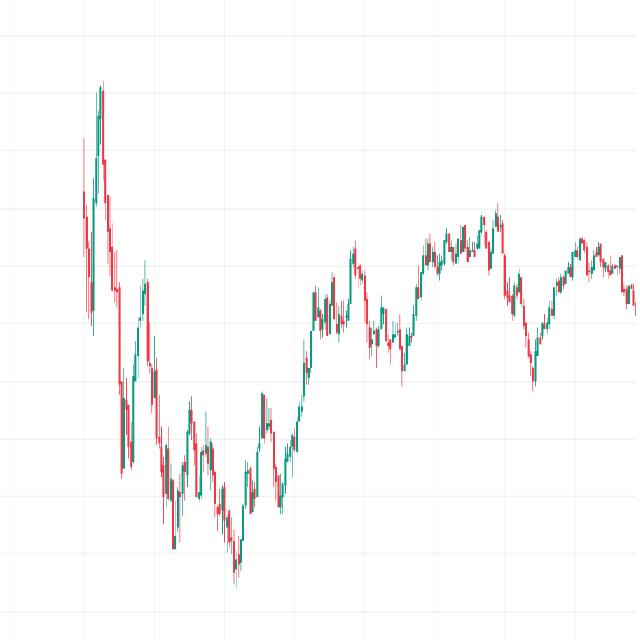Ascending-Triangle: (105, 194, 640, 640)
Rounding-Bottom: (146, 273, 316, 599)
Rounding-Top: (404, 189, 534, 362)
